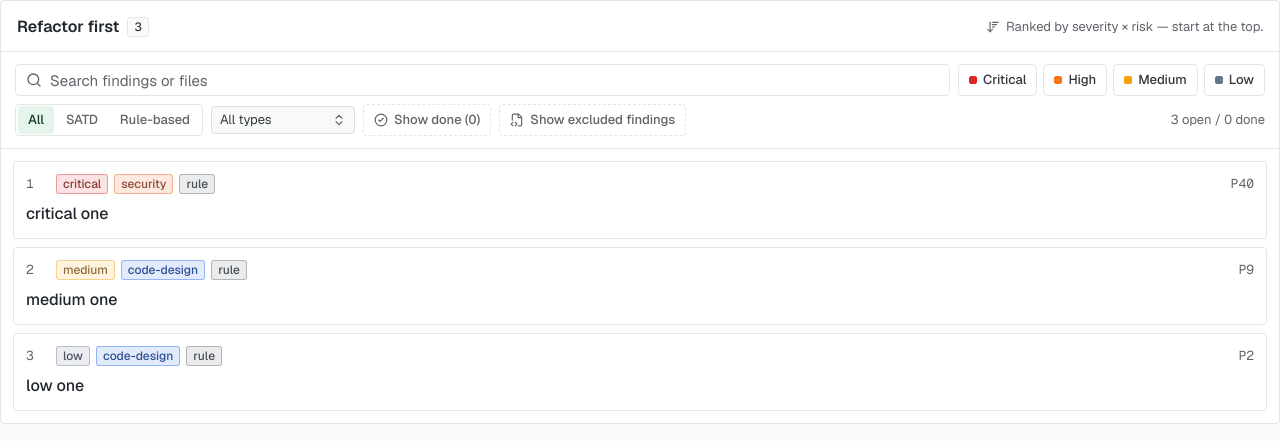
Scenario: filtered to nothing names the active filter and provides a clear filter button
Click the dropdown named "filter by debt type": (283, 120) [211, 106, 355, 134]
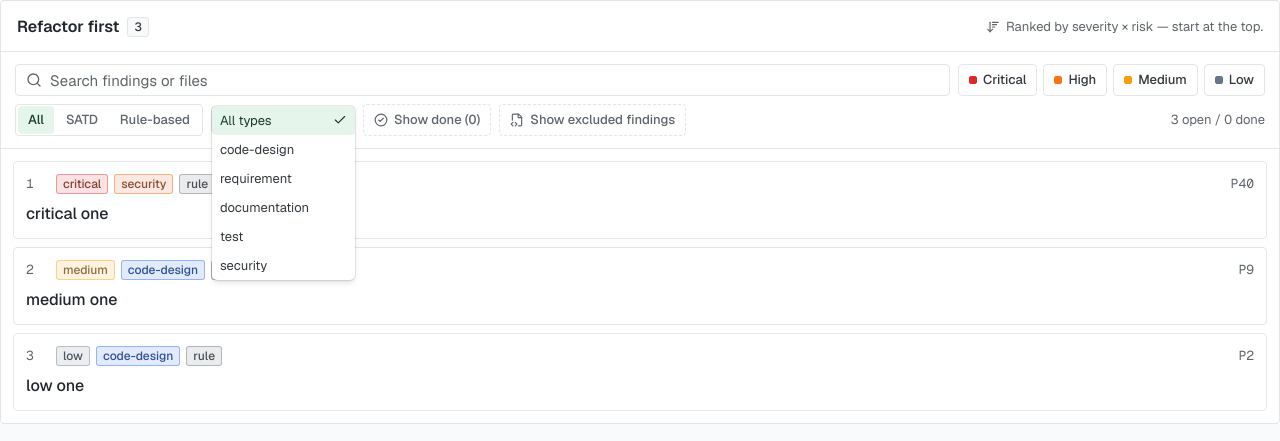
Click the option "test": (232, 236) [220, 228, 243, 245]
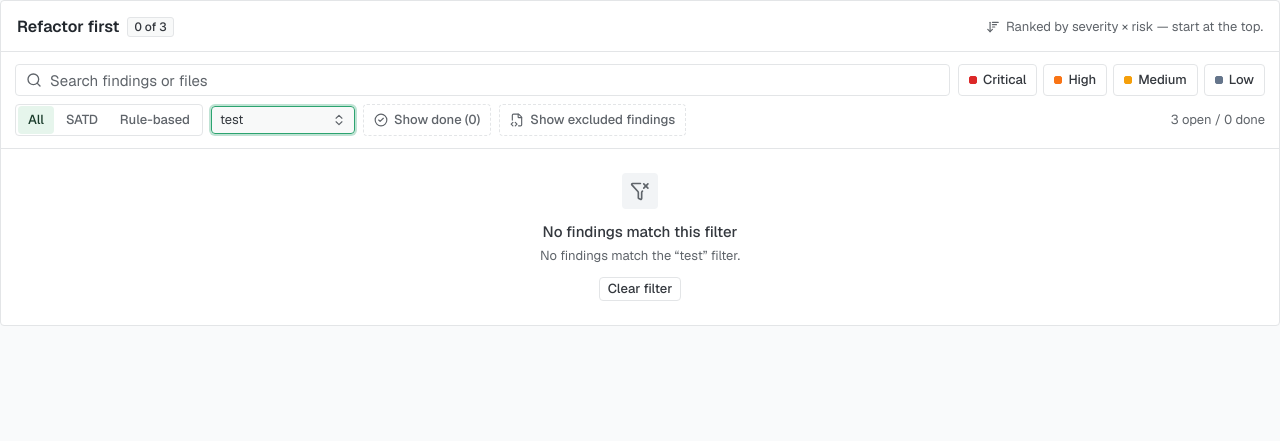
expect the text "No findings match this filter" is shown: met, box [540, 221, 740, 243]
expect the text "No findings match the “test” filter." is shown: met, box [540, 247, 740, 265]
expect the button "Clear filter" is shown: met
Click the button "Clear filter": (640, 289) [599, 277, 681, 301]
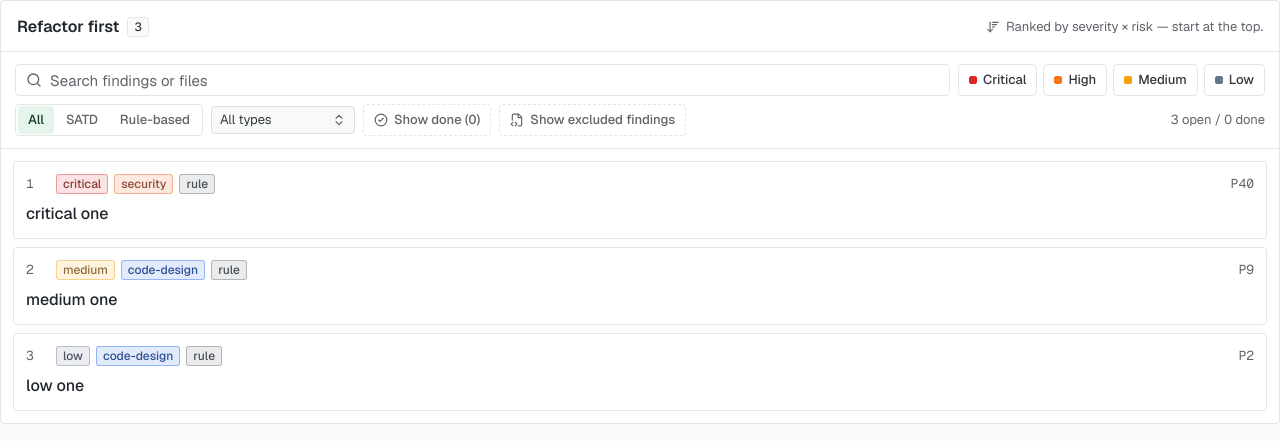
expect the text "critical one" is shown: met, box [26, 203, 108, 224]
expect the text "low one" is shown: met, box [26, 375, 84, 396]
expect the text "medium one" is shown: met, box [26, 289, 117, 310]
